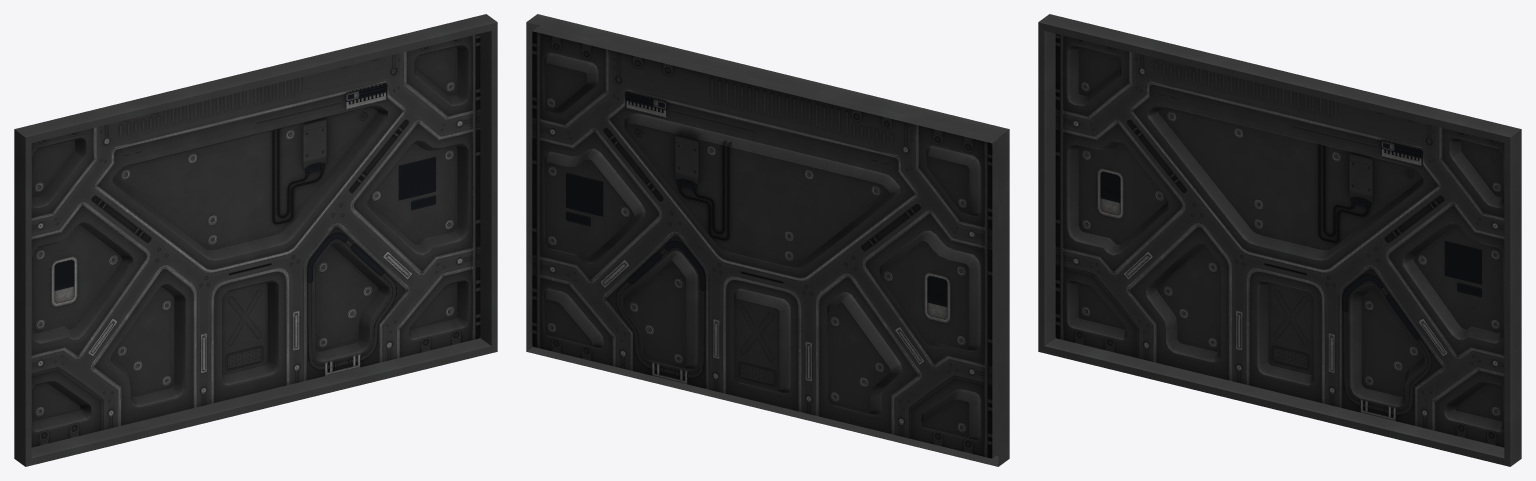
File: Panel_C_2x3_2_L2.FBX
3 renders of one model, left to right at view 1: azimuth 30°, elevation 25°; view 2: azimuth 150°, elevation 25°; view 3: azimuth 330°, elevation 25°, orthographic.
Visible parts, largest first — view 1: Panel_C_2x3_2_L1; view 2: Panel_C_2x3_2_L1; view 3: Panel_C_2x3_2_L1.
Part boxes in pixels (x1,y1,x2,y2): Panel_C_2x3_2_L1: [14, 14, 497, 466]; Panel_C_2x3_2_L1: [526, 14, 1009, 466]; Panel_C_2x3_2_L1: [1038, 14, 1521, 466].
Bounding box in the file's own units: 300 × 200 × 18.38.
